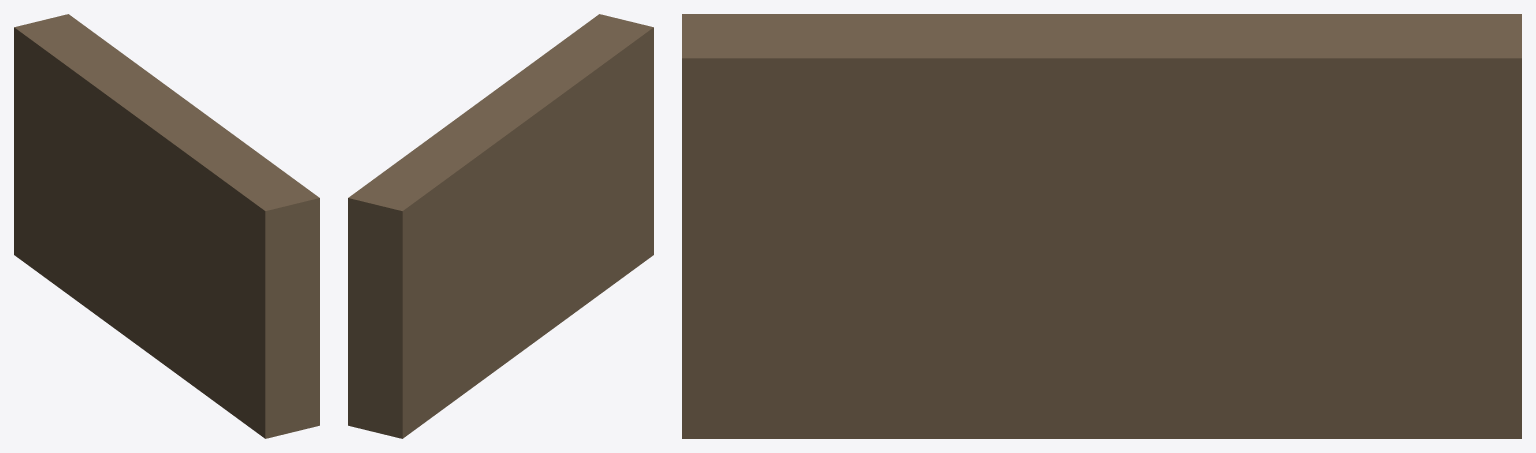
File: Wall.fbx
3 views of the same model, side by side, from view 1: azimuth 30°, elevation 25°; view 2: azimuth 150°, elevation 25°; view 3: azimuth 270°, elevation 25° (orthographic). The views are drawn at different scales.
Parts seen in each view (by area): view 1: Cube.004; view 2: Cube.004; view 3: Cube.004.
Part boxes in pixels (box(x1,y1,x2,y2)): Cube.004: box(14, 14, 319, 438); Cube.004: box(348, 14, 653, 438); Cube.004: box(682, 14, 1521, 438).
Size of the model in its own units: 50 by 200 by 400.
